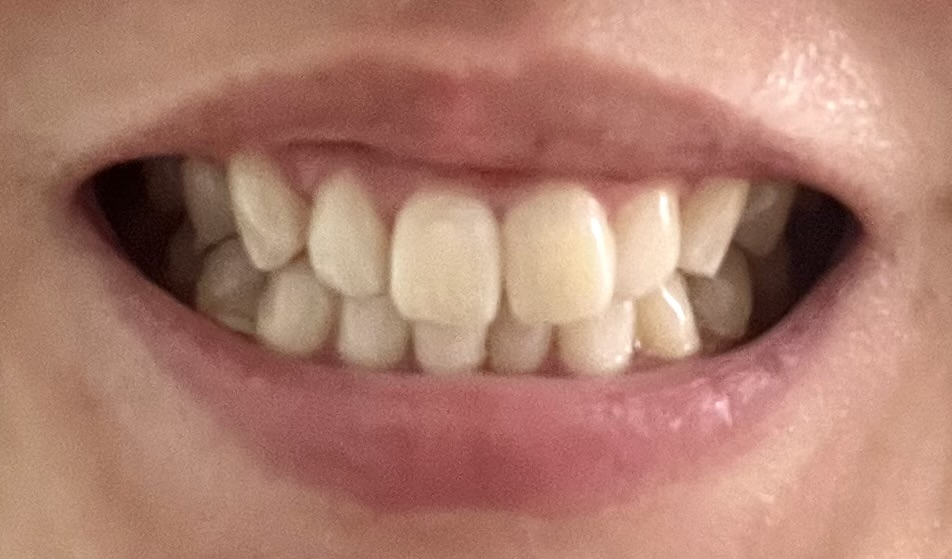teeth: (507, 185, 612, 323), (392, 196, 498, 326), (308, 171, 385, 294), (231, 155, 304, 269), (256, 260, 327, 356), (619, 192, 679, 300), (694, 244, 755, 340), (684, 183, 741, 280), (637, 273, 699, 358), (559, 300, 631, 373), (198, 243, 262, 317), (334, 301, 404, 363), (489, 317, 550, 373), (416, 325, 484, 371), (186, 161, 226, 236)
